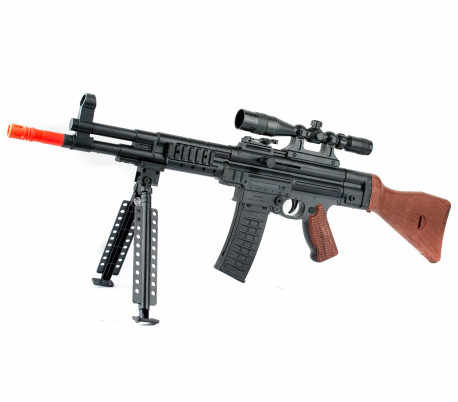Arma Falsa: (5, 90, 458, 328)
